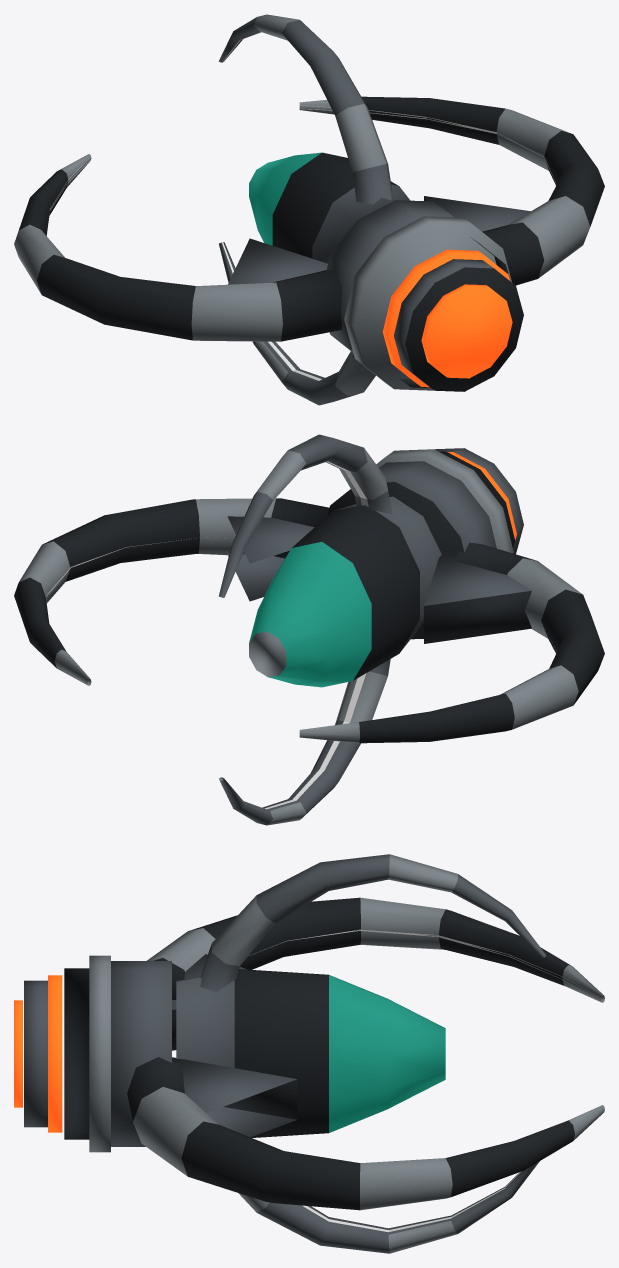
File: DRONE_v2.glb
3 renders of one model, top to bottom at view 1: azimuth 30°, elevation 25°; view 2: azimuth 150°, elevation 25°; view 3: azimuth 270°, elevation 25°, orthographic. The views are drawn at different scales.
Visible parts, largest first — view 1: DRONE_BLADES, DRONE_BODY; view 2: DRONE_BODY, DRONE_BLADES; view 3: DRONE_BODY, DRONE_BLADES.
Boxes of the visible parts, x1,y1,x2,y2 form: DRONE_BLADES: (14,14,604,405); DRONE_BODY: (228,152,530,391); DRONE_BODY: (227,448,531,687); DRONE_BLADES: (14,434,604,825); DRONE_BODY: (14,954,445,1152); DRONE_BLADES: (127,854,604,1253).
Size of the model in its own units: 0.7279 by 0.471 by 0.6417.
